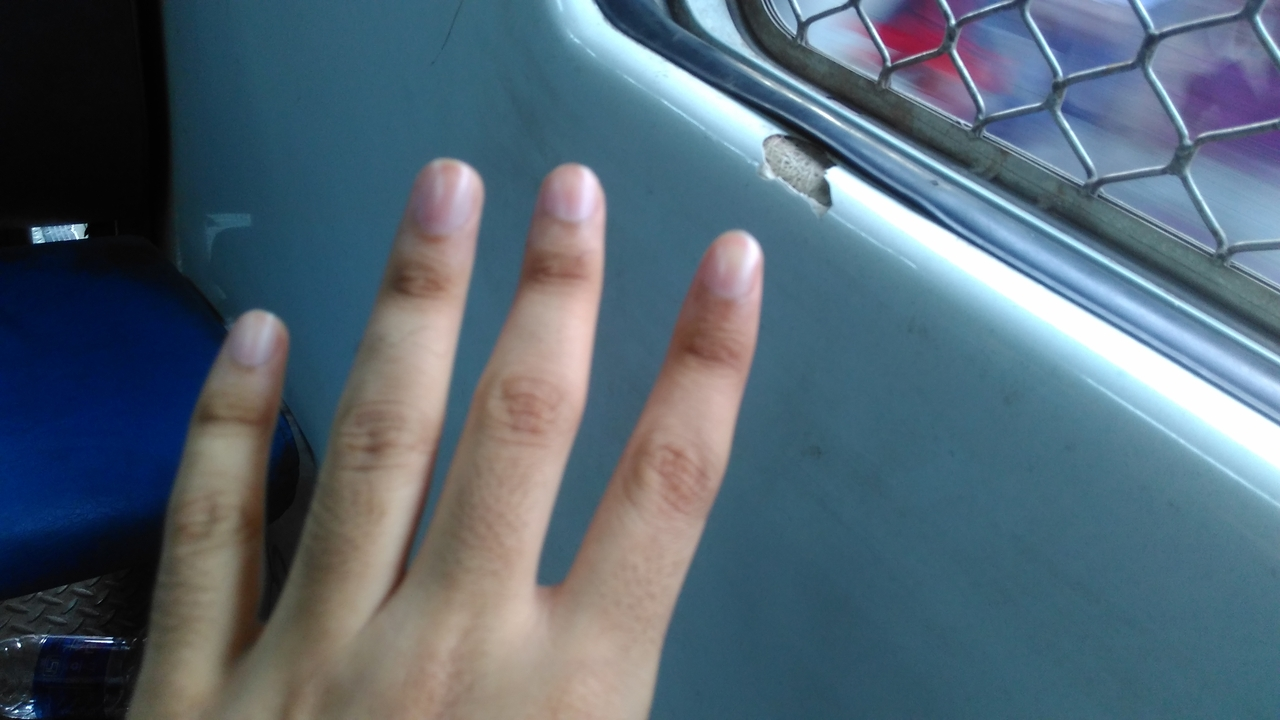fingertip: (206, 306, 294, 384), (400, 154, 490, 226), (694, 220, 772, 298), (530, 152, 608, 228)
